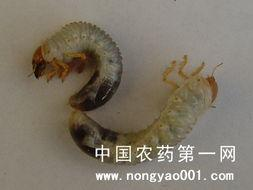grub: (25, 19, 123, 112)
